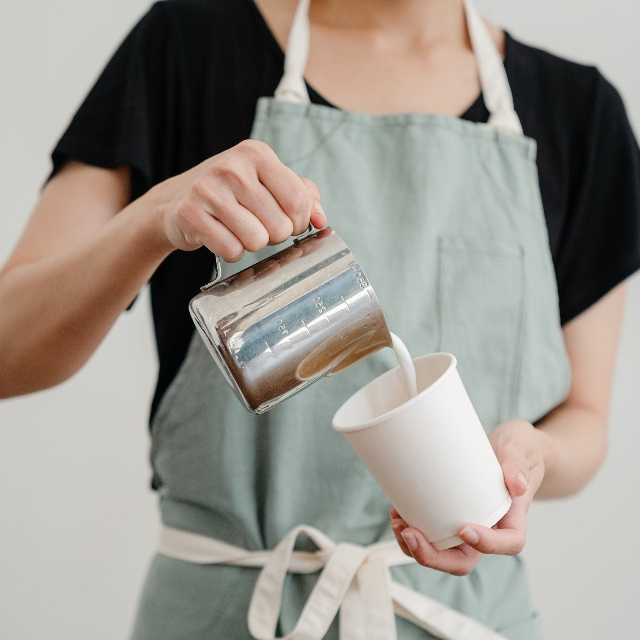Sin_guantes: (387, 409, 545, 587), (164, 144, 327, 258)
